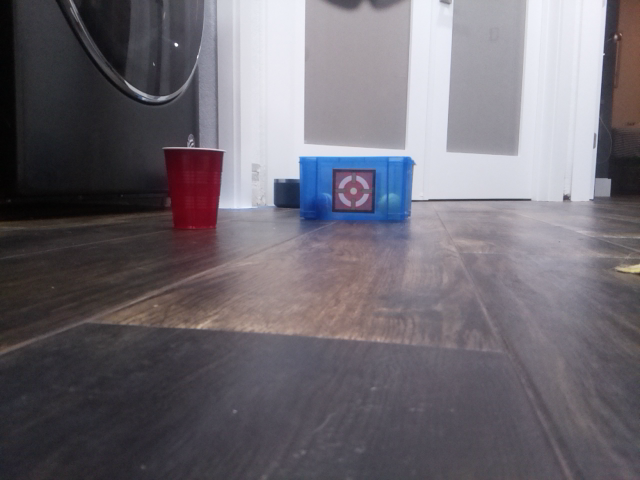drop-bin: (331, 168, 377, 213)
